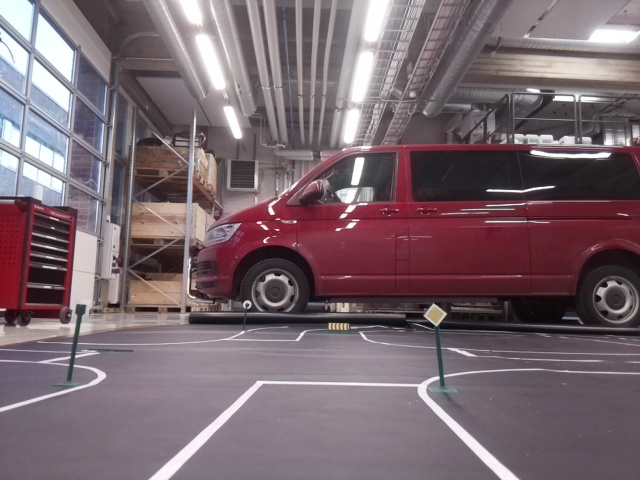Priority: (423, 303, 447, 325)
